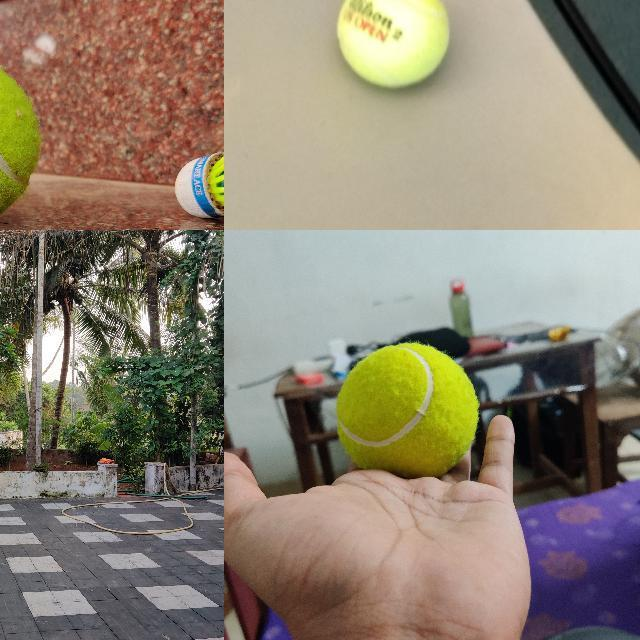tennis-ball: (335, 342, 479, 467), (333, 0, 452, 90), (0, 54, 42, 229)
